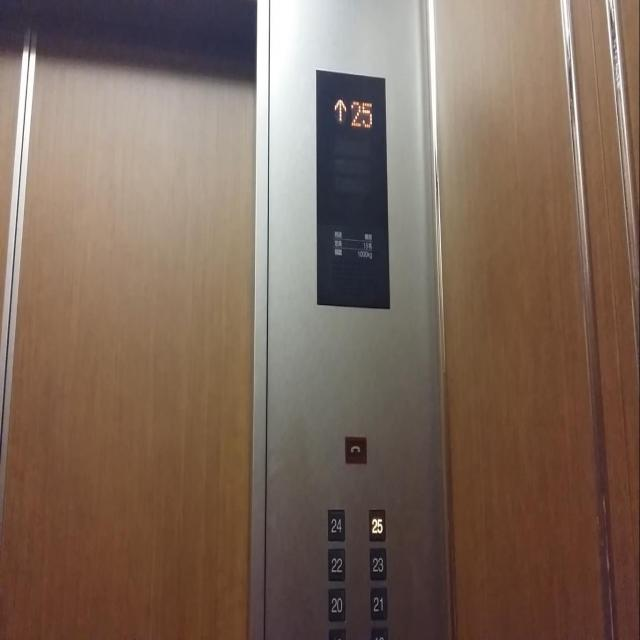20: (327, 586, 346, 622)
21: (369, 585, 388, 622)
22: (326, 546, 346, 582)
23: (368, 546, 387, 582)
24: (326, 507, 346, 542)
25: (368, 508, 386, 542)
call: (344, 434, 367, 465)
led: (314, 61, 392, 316)
